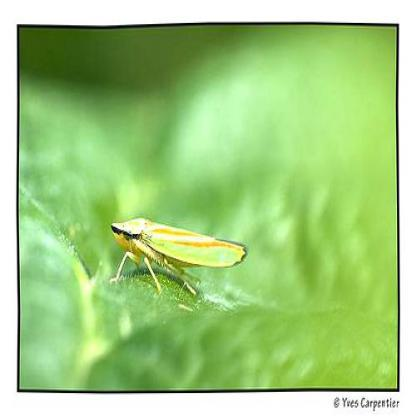green-leafhopper: (108, 217, 244, 299)
